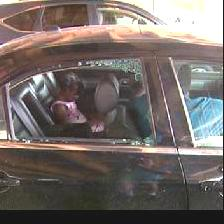glass_shatter: (10, 60, 159, 154), (12, 168, 178, 197)
